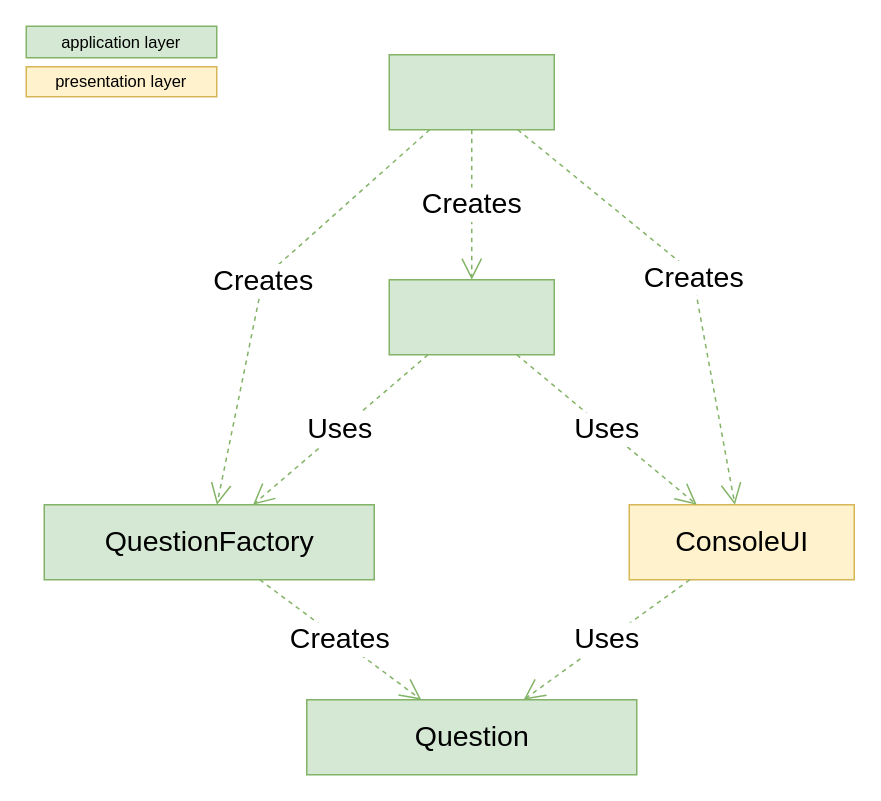
The diagram is 881 pixels wide and 801 high, and some of its shapes have lost their labels. The centre of each missing label's shape, as x and y in pixels:
"App" goes at [471,316].
"Main" goes at [471,91].
